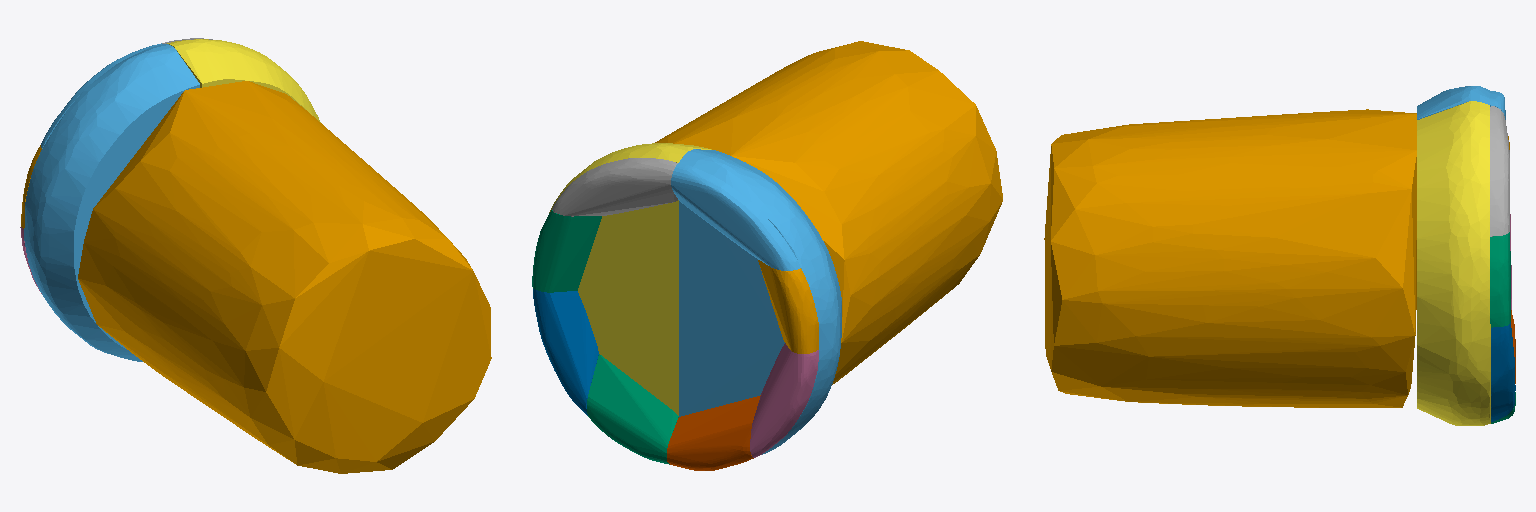
The robot description file, URDF, robot "root":
<robot name="root">
  <link name="link_convex_piece_004.obj">
    <inertial>
      <origin xyz="0 0 0" rpy="0 0 0"/>
    </inertial>
    <visual>
      <origin xyz="0 0 0" rpy="0 0 0"/>
      <geometry>
        <mesh filename="meshes/convex_piece_004.obj" scale="1.0 1.0 1.0"/>
      </geometry>
    </visual>
    <collision>
      <origin xyz="0 0 0" rpy="0 0 0"/>
      <geometry>
        <mesh filename="meshes/convex_piece_004.obj" scale="1.0 1.0 1.0"/>
      </geometry>
    </collision>
  </link>
  <link name="link_convex_piece_001.obj">
    <inertial>
      <origin xyz="0 0 0" rpy="0 0 0"/>
    </inertial>
    <visual>
      <origin xyz="0 0 0" rpy="0 0 0"/>
      <geometry>
        <mesh filename="meshes/convex_piece_001.obj" scale="1.0 1.0 1.0"/>
      </geometry>
    </visual>
    <collision>
      <origin xyz="0 0 0" rpy="0 0 0"/>
      <geometry>
        <mesh filename="meshes/convex_piece_001.obj" scale="1.0 1.0 1.0"/>
      </geometry>
    </collision>
  </link>
  <joint name="link_convex_piece_001.obj_joint" type="fixed">
    <origin xyz="0 0 0" rpy="0 0 0"/>
    <parent link="link_convex_piece_004.obj"/>
    <child link="link_convex_piece_001.obj"/>
  </joint>
  <link name="link_convex_piece_005.obj">
    <inertial>
      <origin xyz="0 0 0" rpy="0 0 0"/>
    </inertial>
    <visual>
      <origin xyz="0 0 0" rpy="0 0 0"/>
      <geometry>
        <mesh filename="meshes/convex_piece_005.obj" scale="1.0 1.0 1.0"/>
      </geometry>
    </visual>
    <collision>
      <origin xyz="0 0 0" rpy="0 0 0"/>
      <geometry>
        <mesh filename="meshes/convex_piece_005.obj" scale="1.0 1.0 1.0"/>
      </geometry>
    </collision>
  </link>
  <joint name="link_convex_piece_005.obj_joint" type="fixed">
    <origin xyz="0 0 0" rpy="0 0 0"/>
    <parent link="link_convex_piece_001.obj"/>
    <child link="link_convex_piece_005.obj"/>
  </joint>
  <link name="link_convex_piece_002.obj">
    <inertial>
      <origin xyz="0 0 0" rpy="0 0 0"/>
    </inertial>
    <visual>
      <origin xyz="0 0 0" rpy="0 0 0"/>
      <geometry>
        <mesh filename="meshes/convex_piece_002.obj" scale="1.0 1.0 1.0"/>
      </geometry>
    </visual>
    <collision>
      <origin xyz="0 0 0" rpy="0 0 0"/>
      <geometry>
        <mesh filename="meshes/convex_piece_002.obj" scale="1.0 1.0 1.0"/>
      </geometry>
    </collision>
  </link>
  <joint name="link_convex_piece_002.obj_joint" type="fixed">
    <origin xyz="0 0 0" rpy="0 0 0"/>
    <parent link="link_convex_piece_005.obj"/>
    <child link="link_convex_piece_002.obj"/>
  </joint>
  <link name="link_convex_piece_010.obj">
    <inertial>
      <origin xyz="0 0 0" rpy="0 0 0"/>
    </inertial>
    <visual>
      <origin xyz="0 0 0" rpy="0 0 0"/>
      <geometry>
        <mesh filename="meshes/convex_piece_010.obj" scale="1.0 1.0 1.0"/>
      </geometry>
    </visual>
    <collision>
      <origin xyz="0 0 0" rpy="0 0 0"/>
      <geometry>
        <mesh filename="meshes/convex_piece_010.obj" scale="1.0 1.0 1.0"/>
      </geometry>
    </collision>
  </link>
  <joint name="link_convex_piece_010.obj_joint" type="fixed">
    <origin xyz="0 0 0" rpy="0 0 0"/>
    <parent link="link_convex_piece_002.obj"/>
    <child link="link_convex_piece_010.obj"/>
  </joint>
  <link name="link_convex_piece_006.obj">
    <inertial>
      <origin xyz="0 0 0" rpy="0 0 0"/>
    </inertial>
    <visual>
      <origin xyz="0 0 0" rpy="0 0 0"/>
      <geometry>
        <mesh filename="meshes/convex_piece_006.obj" scale="1.0 1.0 1.0"/>
      </geometry>
    </visual>
    <collision>
      <origin xyz="0 0 0" rpy="0 0 0"/>
      <geometry>
        <mesh filename="meshes/convex_piece_006.obj" scale="1.0 1.0 1.0"/>
      </geometry>
    </collision>
  </link>
  <joint name="link_convex_piece_006.obj_joint" type="fixed">
    <origin xyz="0 0 0" rpy="0 0 0"/>
    <parent link="link_convex_piece_010.obj"/>
    <child link="link_convex_piece_006.obj"/>
  </joint>
  <link name="link_convex_piece_003.obj">
    <inertial>
      <origin xyz="0 0 0" rpy="0 0 0"/>
    </inertial>
    <visual>
      <origin xyz="0 0 0" rpy="0 0 0"/>
      <geometry>
        <mesh filename="meshes/convex_piece_003.obj" scale="1.0 1.0 1.0"/>
      </geometry>
    </visual>
    <collision>
      <origin xyz="0 0 0" rpy="0 0 0"/>
      <geometry>
        <mesh filename="meshes/convex_piece_003.obj" scale="1.0 1.0 1.0"/>
      </geometry>
    </collision>
  </link>
  <joint name="link_convex_piece_003.obj_joint" type="fixed">
    <origin xyz="0 0 0" rpy="0 0 0"/>
    <parent link="link_convex_piece_006.obj"/>
    <child link="link_convex_piece_003.obj"/>
  </joint>
  <link name="link_convex_piece_008.obj">
    <inertial>
      <origin xyz="0 0 0" rpy="0 0 0"/>
    </inertial>
    <visual>
      <origin xyz="0 0 0" rpy="0 0 0"/>
      <geometry>
        <mesh filename="meshes/convex_piece_008.obj" scale="1.0 1.0 1.0"/>
      </geometry>
    </visual>
    <collision>
      <origin xyz="0 0 0" rpy="0 0 0"/>
      <geometry>
        <mesh filename="meshes/convex_piece_008.obj" scale="1.0 1.0 1.0"/>
      </geometry>
    </collision>
  </link>
  <joint name="link_convex_piece_008.obj_joint" type="fixed">
    <origin xyz="0 0 0" rpy="0 0 0"/>
    <parent link="link_convex_piece_003.obj"/>
    <child link="link_convex_piece_008.obj"/>
  </joint>
  <link name="link_convex_piece_000.obj">
    <inertial>
      <origin xyz="0 0 0" rpy="0 0 0"/>
    </inertial>
    <visual>
      <origin xyz="0 0 0" rpy="0 0 0"/>
      <geometry>
        <mesh filename="meshes/convex_piece_000.obj" scale="1.0 1.0 1.0"/>
      </geometry>
    </visual>
    <collision>
      <origin xyz="0 0 0" rpy="0 0 0"/>
      <geometry>
        <mesh filename="meshes/convex_piece_000.obj" scale="1.0 1.0 1.0"/>
      </geometry>
    </collision>
  </link>
  <joint name="link_convex_piece_000.obj_joint" type="fixed">
    <origin xyz="0 0 0" rpy="0 0 0"/>
    <parent link="link_convex_piece_008.obj"/>
    <child link="link_convex_piece_000.obj"/>
  </joint>
  <link name="link_convex_piece_009.obj">
    <inertial>
      <origin xyz="0 0 0" rpy="0 0 0"/>
    </inertial>
    <visual>
      <origin xyz="0 0 0" rpy="0 0 0"/>
      <geometry>
        <mesh filename="meshes/convex_piece_009.obj" scale="1.0 1.0 1.0"/>
      </geometry>
    </visual>
    <collision>
      <origin xyz="0 0 0" rpy="0 0 0"/>
      <geometry>
        <mesh filename="meshes/convex_piece_009.obj" scale="1.0 1.0 1.0"/>
      </geometry>
    </collision>
  </link>
  <joint name="link_convex_piece_009.obj_joint" type="fixed">
    <origin xyz="0 0 0" rpy="0 0 0"/>
    <parent link="link_convex_piece_000.obj"/>
    <child link="link_convex_piece_009.obj"/>
  </joint>
  <link name="link_convex_piece_007.obj">
    <inertial>
      <origin xyz="0 0 0" rpy="0 0 0"/>
    </inertial>
    <visual>
      <origin xyz="0 0 0" rpy="0 0 0"/>
      <geometry>
        <mesh filename="meshes/convex_piece_007.obj" scale="1.0 1.0 1.0"/>
      </geometry>
    </visual>
    <collision>
      <origin xyz="0 0 0" rpy="0 0 0"/>
      <geometry>
        <mesh filename="meshes/convex_piece_007.obj" scale="1.0 1.0 1.0"/>
      </geometry>
    </collision>
  </link>
  <joint name="link_convex_piece_007.obj_joint" type="fixed">
    <origin xyz="0 0 0" rpy="0 0 0"/>
    <parent link="link_convex_piece_009.obj"/>
    <child link="link_convex_piece_007.obj"/>
  </joint>
</robot>

--- Render facts (derived) ---
The picture shows the robot from 3 angles, left to right: view 1: azimuth 30°, elevation 25°; view 2: azimuth 150°, elevation 25°; view 3: azimuth 270°, elevation 25°; orthographic projection.
Robot: root — 11 links, 10 joints (10 fixed); root link link_convex_piece_004.obj; default pose: every joint at zero.
Links seen in each view (by area): view 1: link_convex_piece_000.obj, link_convex_piece_001.obj, link_convex_piece_002.obj, link_convex_piece_009.obj; view 2: link_convex_piece_000.obj, link_convex_piece_001.obj, link_convex_piece_002.obj, link_convex_piece_007.obj, link_convex_piece_009.obj, link_convex_piece_008.obj, link_convex_piece_010.obj, link_convex_piece_006.obj, link_convex_piece_003.obj, link_convex_piece_005.obj, link_convex_piece_004.obj; view 3: link_convex_piece_000.obj, link_convex_piece_002.obj, link_convex_piece_008.obj, link_convex_piece_010.obj, link_convex_piece_005.obj, link_convex_piece_001.obj.
Link boxes in pixels (x1,y1,x2,y2): link_convex_piece_000.obj: [78, 81, 491, 473]; link_convex_piece_001.obj: [24, 44, 199, 361]; link_convex_piece_002.obj: [167, 39, 320, 122]; link_convex_piece_009.obj: [41, 43, 162, 148]; link_convex_piece_000.obj: [655, 41, 1002, 384]; link_convex_piece_001.obj: [679, 149, 841, 454]; link_convex_piece_002.obj: [549, 143, 711, 415]; link_convex_piece_007.obj: [587, 354, 678, 464]; link_convex_piece_009.obj: [671, 163, 800, 270]; link_convex_piece_008.obj: [552, 158, 677, 216]; link_convex_piece_010.obj: [533, 289, 598, 415]; link_convex_piece_006.obj: [667, 395, 760, 470]; link_convex_piece_003.obj: [750, 343, 818, 457]; link_convex_piece_005.obj: [532, 210, 601, 292]; link_convex_piece_004.obj: [758, 260, 818, 353]; link_convex_piece_000.obj: [1044, 109, 1416, 407]; link_convex_piece_002.obj: [1417, 101, 1490, 425]; link_convex_piece_008.obj: [1490, 106, 1509, 236]; link_convex_piece_010.obj: [1491, 322, 1515, 421]; link_convex_piece_005.obj: [1490, 232, 1510, 327]; link_convex_piece_001.obj: [1417, 86, 1489, 119].
Bounding box of the posed robot: 1.02 × 1.42 × 1.02 m (x, y, z).
Meshes: 11 distinct files referenced, 11 mesh visuals loaded (11 OBJ).
